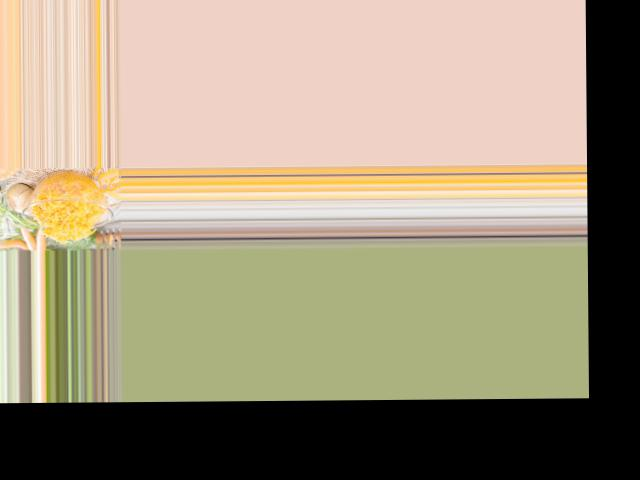carrot: (36, 229, 45, 248)
